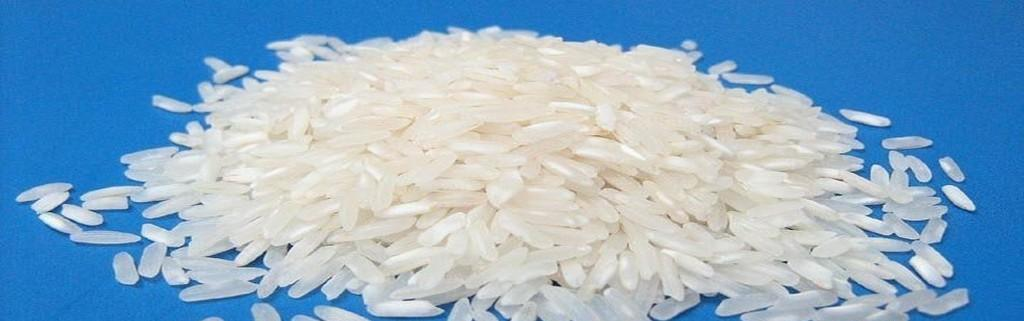WhiteRice: (16, 26, 978, 321)
